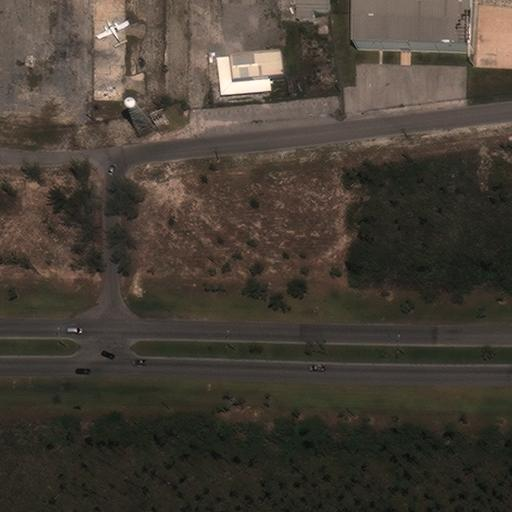Small Civil Transport: (96, 20, 127, 45)
